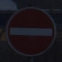No entry: (5, 5, 57, 57)
